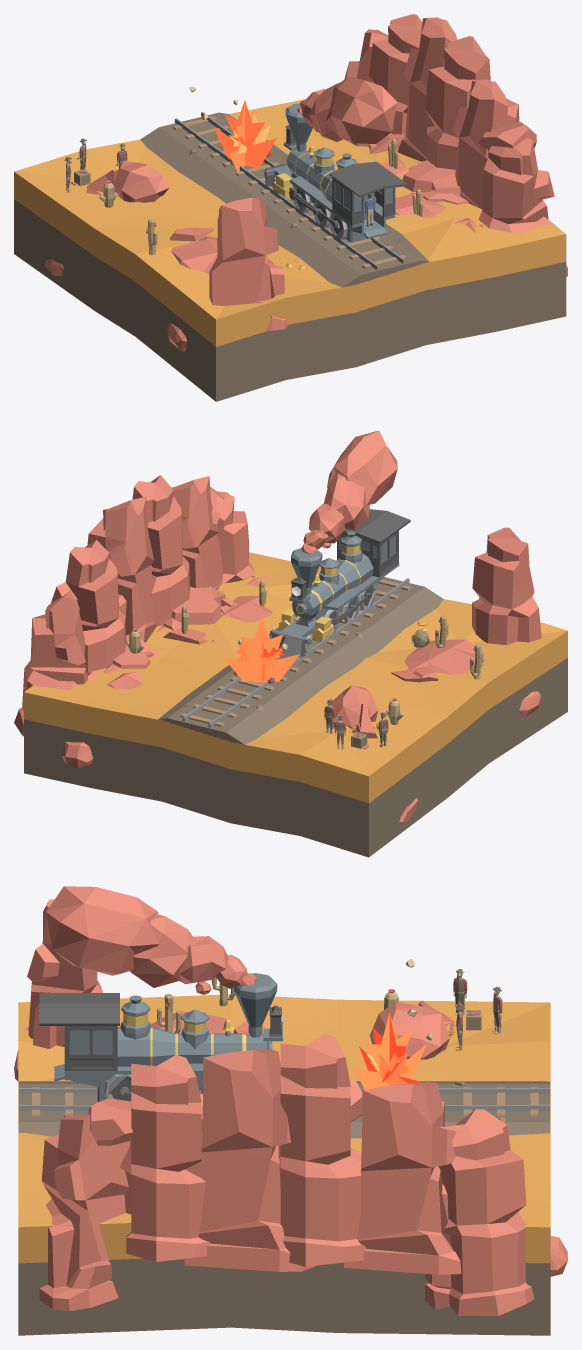
File: train.glb
3 views of the same model, one above another, from view 1: azimuth 30°, elevation 25°; view 2: azimuth 150°, elevation 25°; view 3: azimuth 270°, elevation 25° (orthographic). The views are drawn at different scales.
Visible parts, largest first — view 1: world_field__4_, locomotive_western_base, rail_straight_bottom__1_, rock03__10_, rail_straight_bottom, rock03__1_, rock03__3_, rock03__2_, rock03__4_, stone_round__6_, rock03__5_, fire (+7 smaller); view 2: world_field__4_, locomotive_western_base, rail_straight_bottom, rock03__10_, rail_straight_bottom__1_, rock03__5_, rock03__4_, rock03__6_, rock03__3_, rock03__2_, stone_round__6_, rock03__1_ (+9 smaller); view 3: world_field__4_, rock03__3_, rock03__4_, rock03__5_, rock03__6_, rock03__2_, locomotive_western_base, rock03__1_, stone_round__6_, rail_straight_bottom, rock03__10_, rail_straight_bottom__1_ (+9 smaller).
Part boxes in pixels (box(x1,y1,x2,y2)): world_field__4_: box(14, 99, 566, 401); locomotive_western_base: box(264, 103, 407, 242); rail_straight_bottom__1_: box(263, 193, 429, 287); rock03__10_: box(209, 196, 287, 330); rail_straight_bottom: box(140, 112, 288, 203); rock03__1_: box(479, 137, 567, 276); rock03__3_: box(425, 36, 490, 169); rock03__2_: box(453, 79, 519, 209); rock03__4_: box(397, 17, 457, 161); stone_round__6_: box(325, 76, 397, 143); rock03__5_: box(369, 14, 422, 134); fire: box(213, 100, 276, 171); world_field__4_: box(24, 552, 567, 857); locomotive_western_base: box(270, 509, 410, 658); rail_straight_bottom: box(158, 651, 345, 744); rock03__10_: box(472, 527, 541, 645); rail_straight_bottom__1_: box(269, 577, 443, 672); rock03__5_: box(51, 540, 126, 672); rock03__4_: box(87, 496, 156, 642); rock03__6_: box(14, 590, 87, 736); rock03__3_: box(132, 475, 190, 626); rock03__2_: box(172, 476, 223, 589); stone_round__6_: box(327, 430, 397, 505); rock03__1_: box(216, 491, 255, 583); world_field__4_: box(18, 994, 550, 1335); rock03__3_: box(184, 1049, 315, 1271); rock03__4_: box(278, 1033, 366, 1266); rock03__5_: box(344, 1081, 461, 1274); rock03__6_: box(425, 1109, 534, 1315); rock03__2_: box(120, 1055, 210, 1261); locomotive_western_base: box(39, 973, 282, 1101); rock03__1_: box(39, 1114, 129, 1311); stone_round__6_: box(46, 886, 159, 975); rail_straight_bottom: box(350, 1080, 550, 1138); rock03__10_: box(14, 899, 102, 1081); rail_straight_bottom__1_: box(18, 1081, 202, 1141).
Size of the model in its own units: 22.05 by 14.03 by 20.83.
